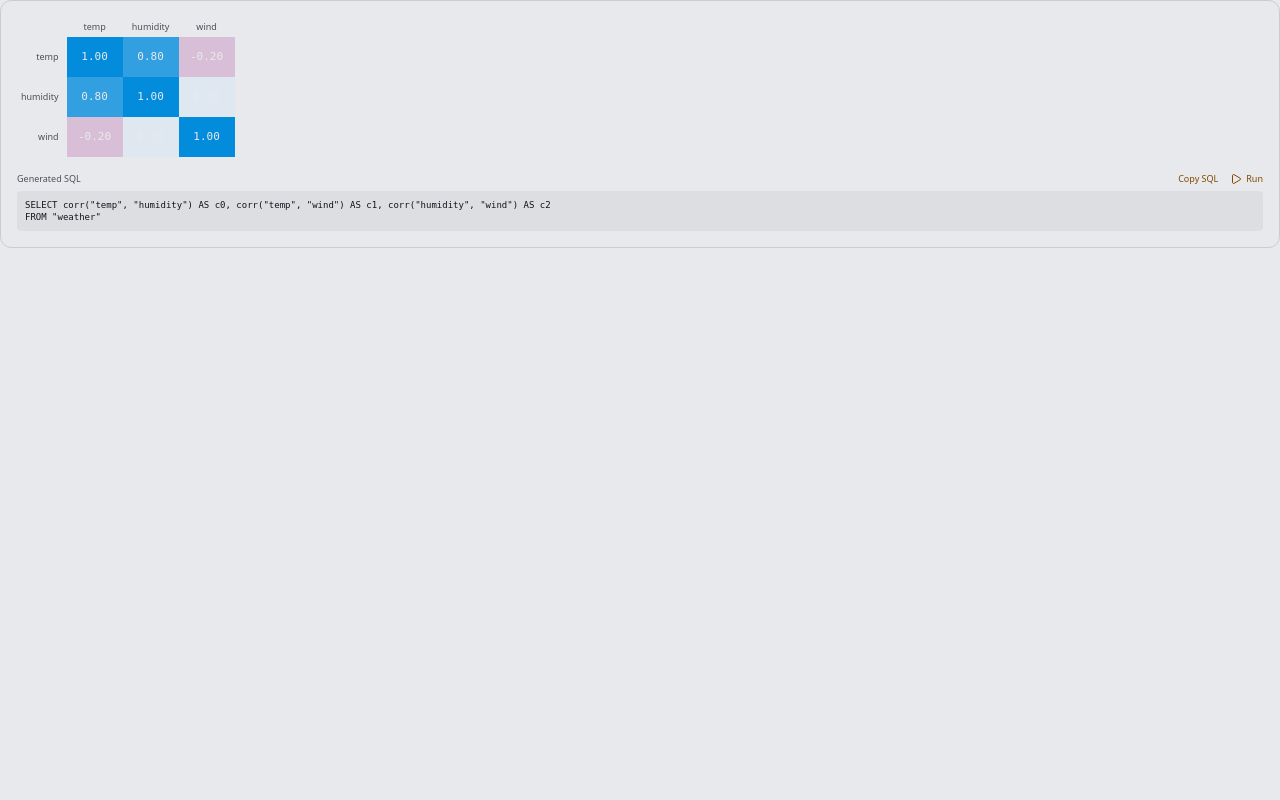
CorrelationModule › clicking a cell opens the scatter drill-through for that pair
Click the button named "temp vs humidity: 0.800" at (151, 57), box [123,37,179,77]
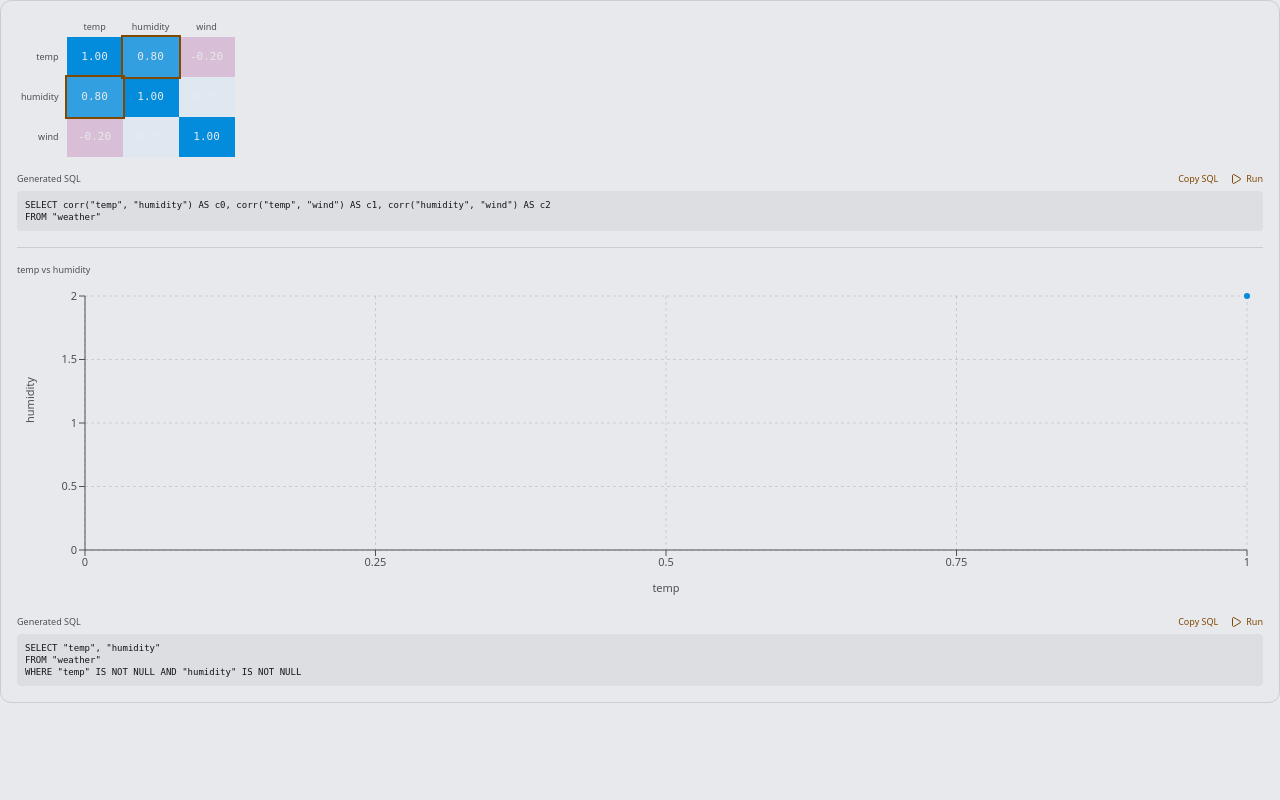
Now the text "temp vs humidity" is shown, box [17,263,90,276]
